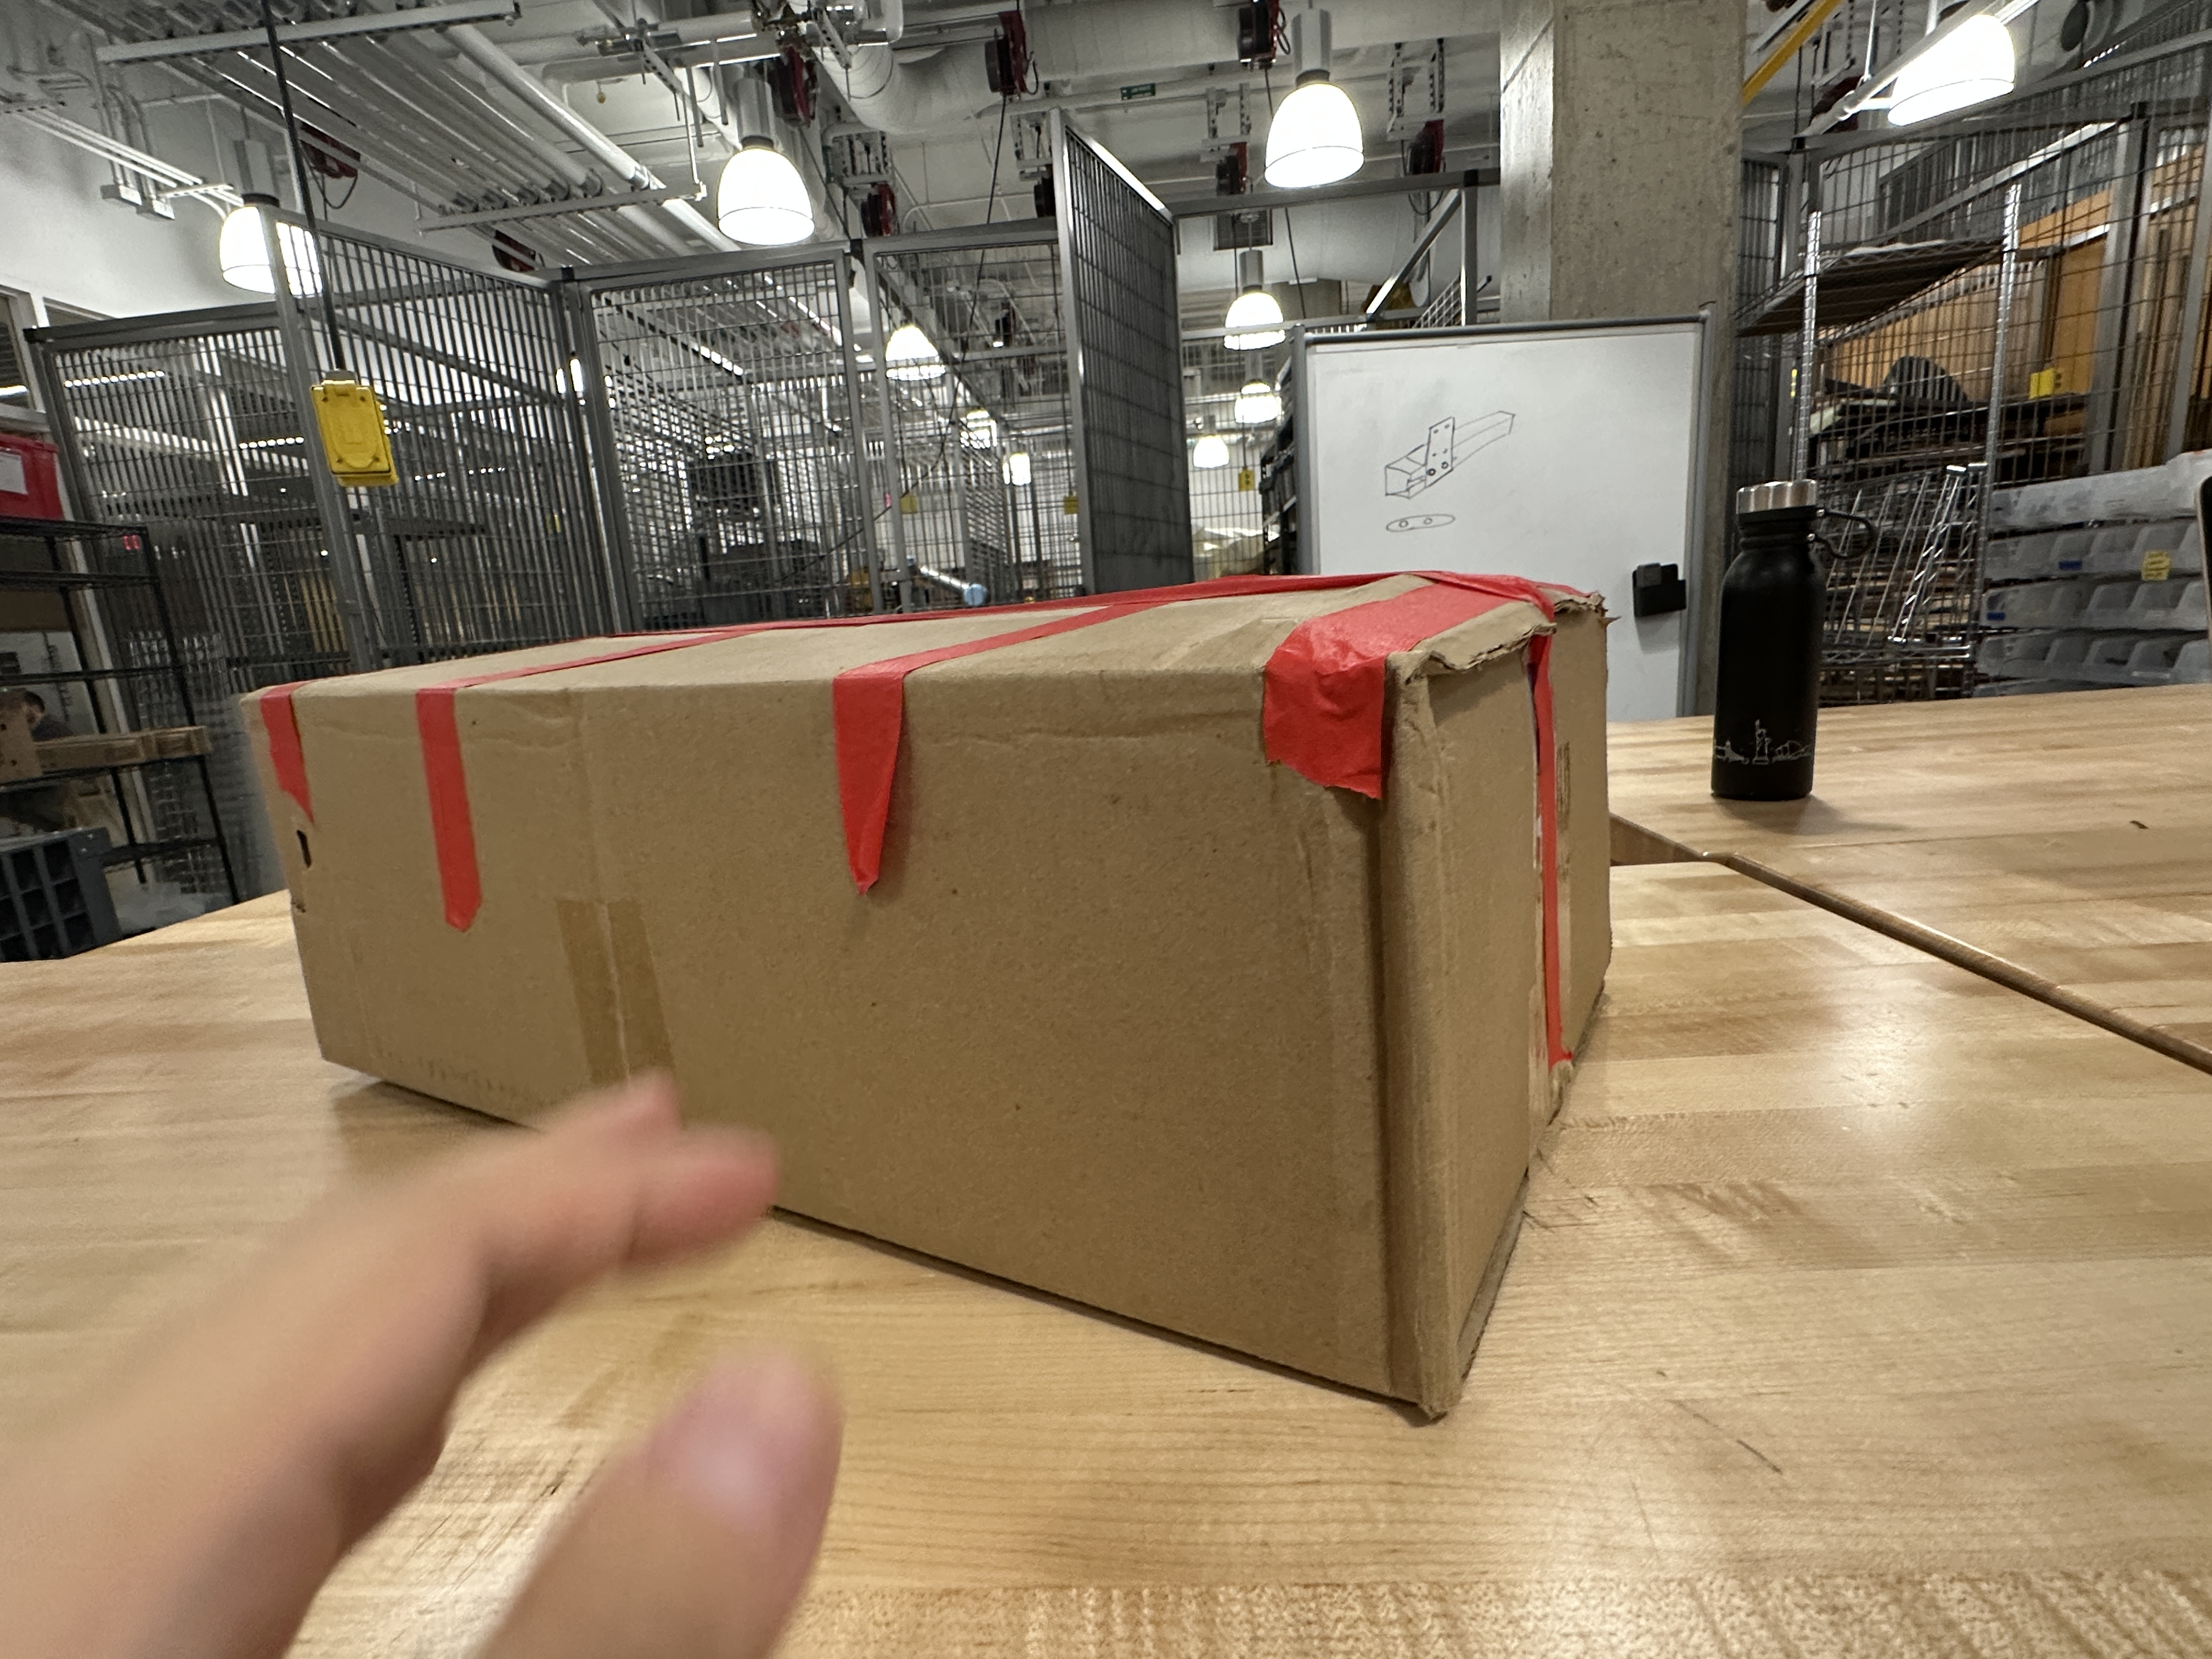Box_Obstacle: (225, 556, 1641, 1446)
